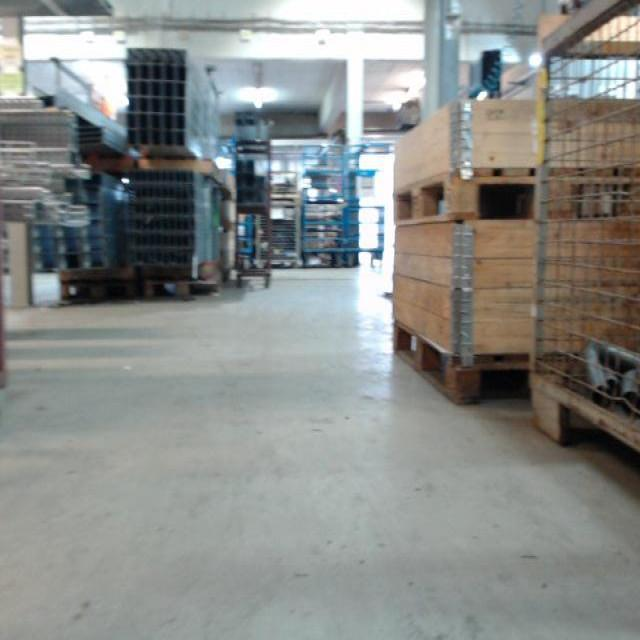pallet: (392, 163, 640, 229), (391, 316, 555, 406), (64, 278, 142, 304), (141, 280, 228, 301)
stillage: (525, 2, 639, 489), (252, 196, 308, 278), (258, 169, 303, 209)
